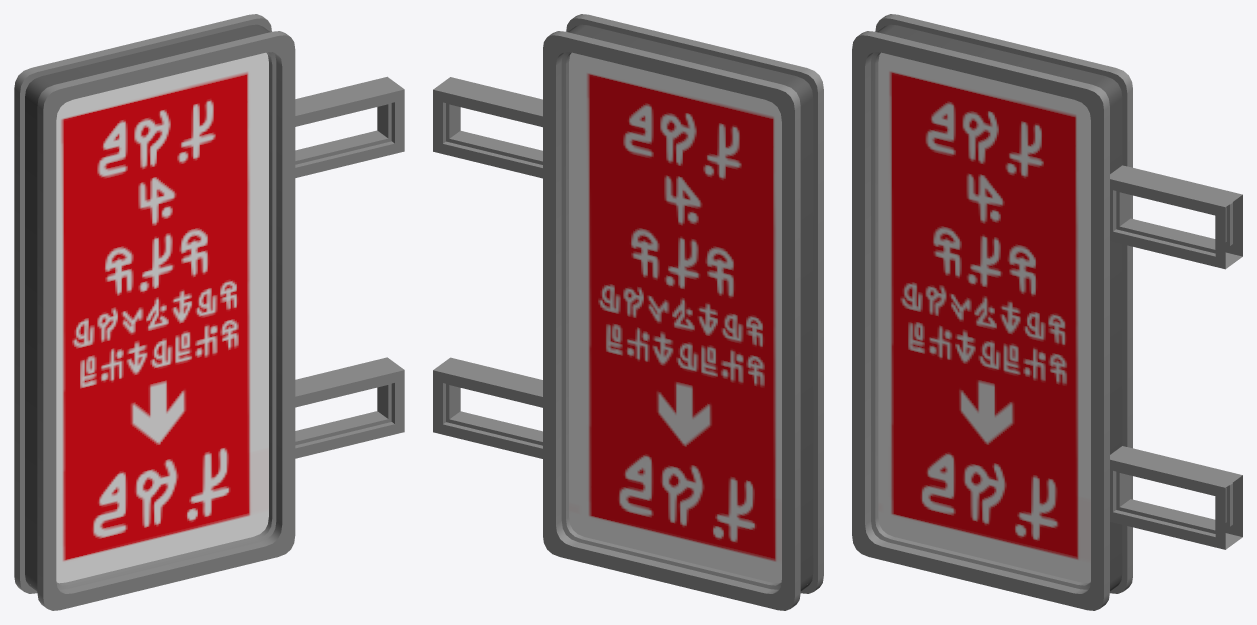
The picture shows the model from 3 angles, left to right: view 1: azimuth 30°, elevation 25°; view 2: azimuth 150°, elevation 25°; view 3: azimuth 330°, elevation 25°; orthographic projection.
Visible parts, largest first — view 1: MS_2M_3; view 2: MS_2M_3; view 3: MS_2M_3.
Part boxes in pixels (box(x1,y1,x2,y2)): MS_2M_3: box(14, 14, 404, 610); MS_2M_3: box(433, 14, 823, 610); MS_2M_3: box(852, 14, 1242, 610).
Bounding box in the file's own units: 146 × 198 × 19.93.
